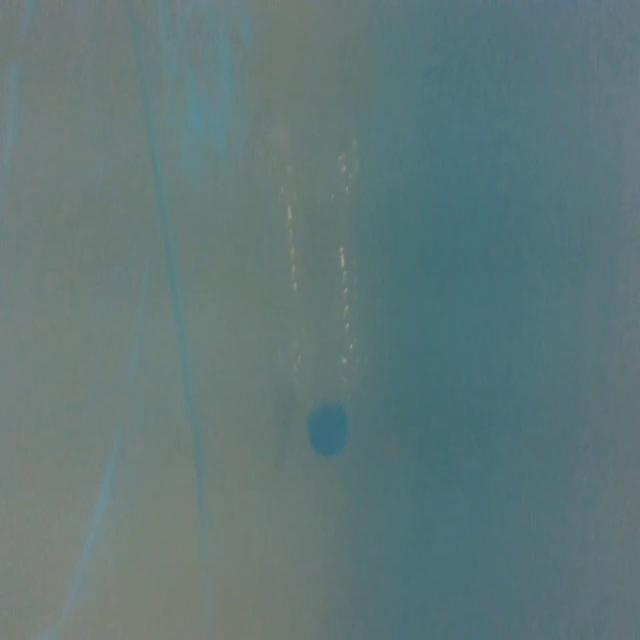plastic bottle: (255, 113, 375, 460)
